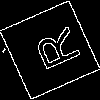R: (25, 25, 82, 77)
